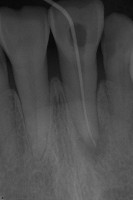Furcation Involvement: (78, 120, 111, 163)
